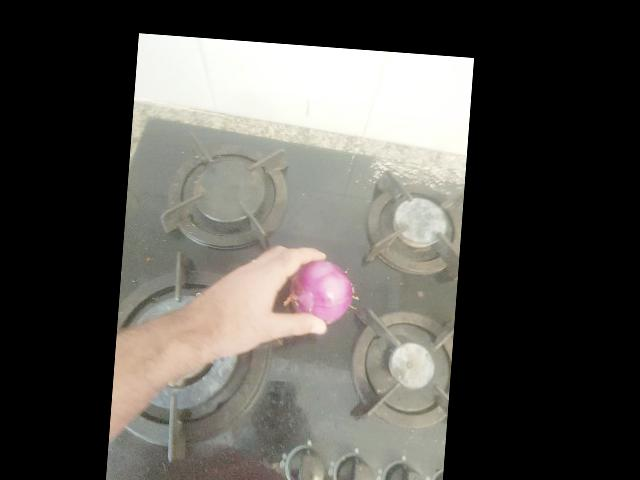onion: (338, 159, 413, 226)
